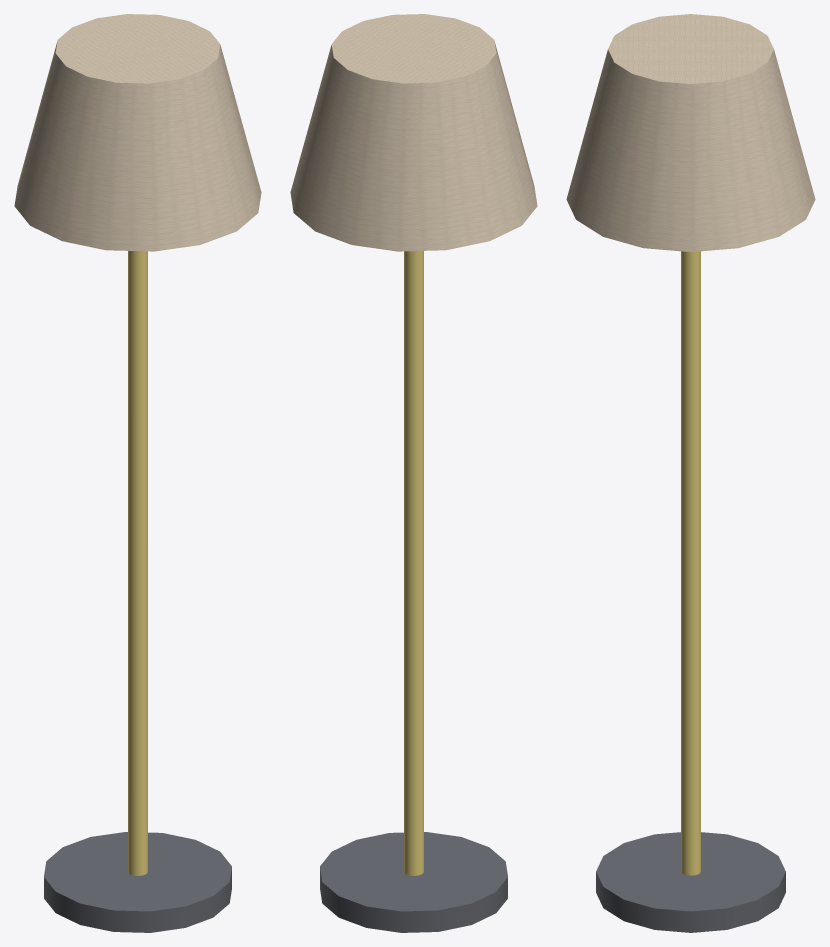
Rendered from floor_lamp_brass.glb.
3 views of the same model, side by side, from view 1: azimuth 30°, elevation 25°; view 2: azimuth 150°, elevation 25°; view 3: azimuth 270°, elevation 25° (orthographic).
Parts seen in each view (by area): view 1: floor_lamp_brass_fabricLinen, floor_lamp_brass_metalBlack, floor_lamp_brass_metalBrass; view 2: floor_lamp_brass_fabricLinen, floor_lamp_brass_metalBlack, floor_lamp_brass_metalBrass; view 3: floor_lamp_brass_fabricLinen, floor_lamp_brass_metalBlack, floor_lamp_brass_metalBrass.
Boxes of the visible parts, x1,y1,x2,y2 form: floor_lamp_brass_fabricLinen: [14, 14, 261, 251]; floor_lamp_brass_metalBlack: [44, 832, 231, 932]; floor_lamp_brass_metalBrass: [128, 251, 147, 875]; floor_lamp_brass_fabricLinen: [290, 14, 537, 251]; floor_lamp_brass_metalBlack: [320, 832, 507, 932]; floor_lamp_brass_metalBrass: [404, 251, 423, 875]; floor_lamp_brass_fabricLinen: [566, 14, 815, 251]; floor_lamp_brass_metalBlack: [596, 832, 785, 932]; floor_lamp_brass_metalBrass: [681, 251, 700, 875].
Size of what is drawn, in the model's own units: 0.42 by 1.57 by 0.42.
3 materials, 1 textured.
